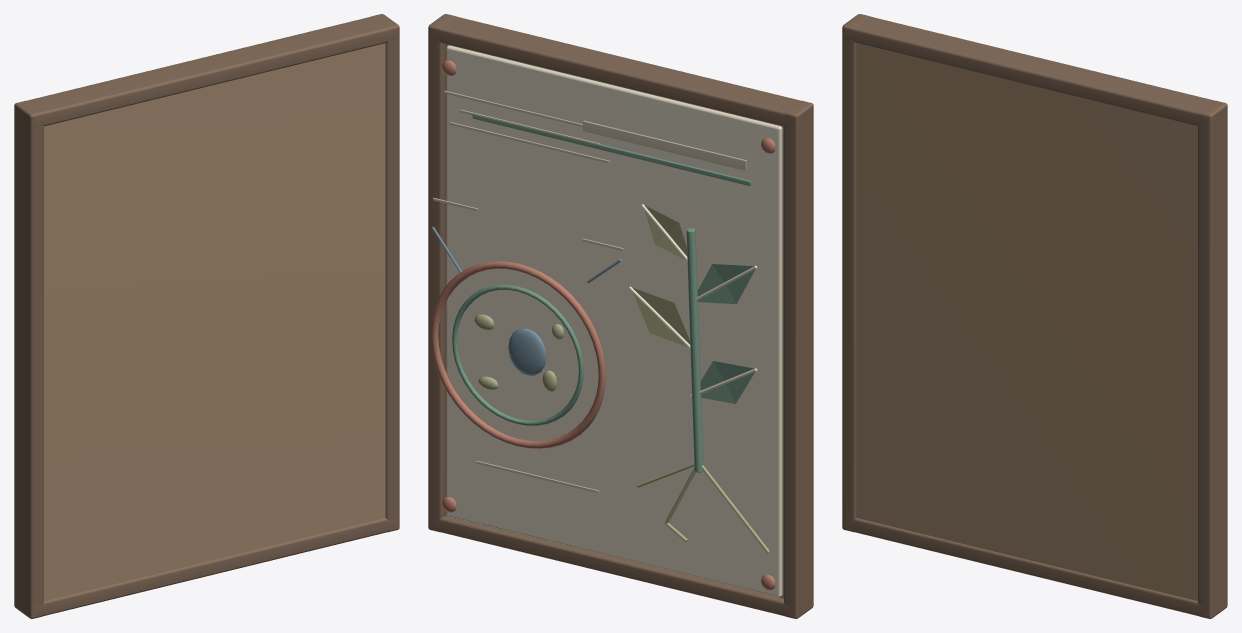
File: classroom_biology_chart.glb
3 renders of one model, left to right at view 1: azimuth 30°, elevation 25°; view 2: azimuth 150°, elevation 25°; view 3: azimuth 330°, elevation 25°, orthographic.
Parts seen in each view (by area): view 1: Chart_backing_board, Chart_frame_side, Chart_frame_horizontal.001, Chart_frame_side.001, Chart_frame_horizontal; view 2: Chart_paper, Chart_frame_side, Chart_frame_horizontal.001, Chart_frame_side.001, Chart_frame_horizontal, Chart_cell_outer_ring, Chart_cell_inner_ring, Chart_backing_board, Chart_plant_stem, Chart_title_bar, Chart_header_rule, Chart_plant_leaf_02 (+5 smaller); view 3: Chart_backing_board, Chart_frame_side.001, Chart_frame_horizontal.001, Chart_frame_side, Chart_frame_horizontal.
Part boxes in pixels (x1,y1,x2,y2): Chart_backing_board: (44,43,385,600); Chart_frame_side: (14,100,43,618); Chart_frame_horizontal.001: (26,16,397,127); Chart_frame_side.001: (371,14,399,532); Chart_frame_horizontal: (34,518,397,616); Chart_paper: (446,45,782,597); Chart_frame_side: (784,100,813,618); Chart_frame_horizontal.001: (430,16,801,126); Chart_frame_side.001: (428,14,456,532); Chart_frame_horizontal: (430,516,789,616); Chart_cell_outer_ring: (431,261,605,448); Chart_cell_inner_ring: (452,285,583,425); Chart_backing_board: (445,44,783,598); Chart_plant_stem: (686,228,703,472); Chart_title_bar: (583,120,746,170); Chart_header_rule: (472,114,751,185); Chart_plant_leaf_02: (697,264,755,304); Chart_backing_board: (856,43,1197,600); Chart_frame_side.001: (1198,100,1227,618); Chart_frame_horizontal.001: (844,16,1215,126); Chart_frame_side: (842,14,870,532); Chart_frame_horizontal: (844,518,1202,616).
Size of the model in its own units: 0.905 by 1.18 by 0.1085.
